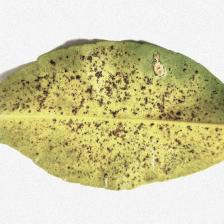canker: (52, 51, 204, 164)
